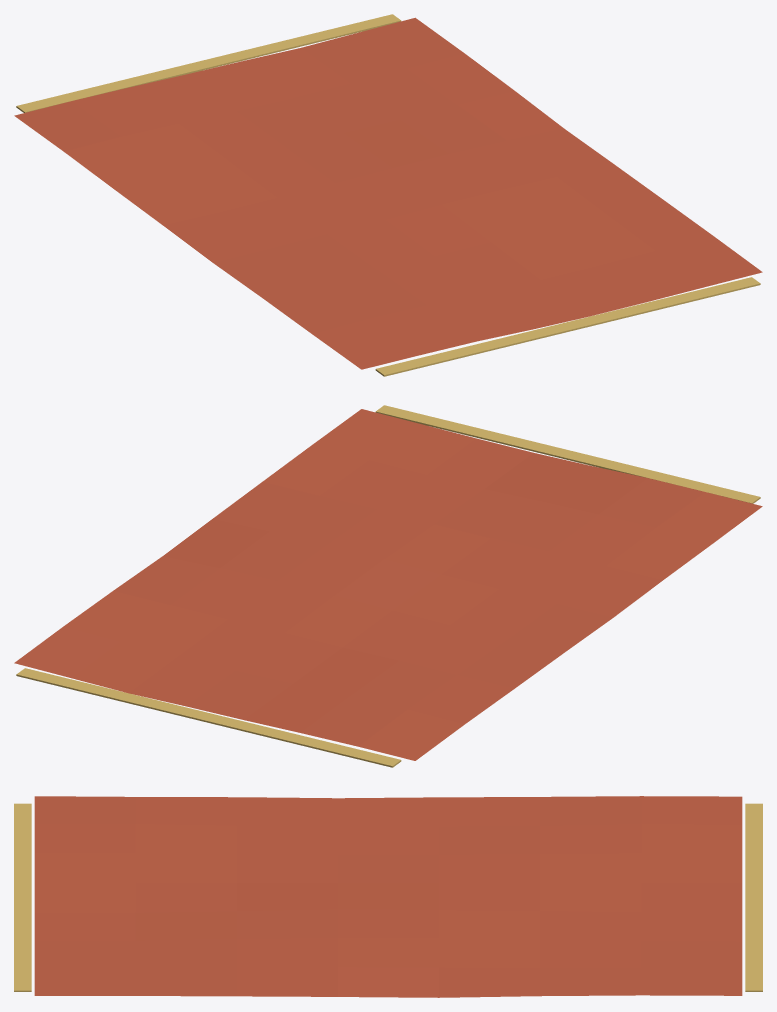
File: bazaar_rug.glb
3 renders of one model, top to bottom at view 1: azimuth 30°, elevation 25°; view 2: azimuth 150°, elevation 25°; view 3: azimuth 270°, elevation 25°, orthographic.
Parts seen in each view (by area): view 1: Rug_Body, Rug_Fringe_S, Rug_Fringe_N; view 2: Rug_Body, Rug_Fringe_N, Rug_Fringe_S; view 3: Rug_Body, Rug_Fringe_N, Rug_Fringe_S.
Part boxes in pixels (bbox=[...]): Rug_Body: bbox=[14, 17, 762, 369]; Rug_Fringe_S: bbox=[375, 277, 760, 376]; Rug_Fringe_N: bbox=[16, 14, 401, 112]; Rug_Body: bbox=[14, 409, 762, 760]; Rug_Fringe_N: bbox=[16, 668, 401, 767]; Rug_Fringe_S: bbox=[375, 405, 760, 503]; Rug_Body: bbox=[34, 796, 742, 997]; Rug_Fringe_N: bbox=[745, 803, 762, 991]; Rug_Fringe_S: bbox=[14, 803, 31, 991].
Bounding box in the file's own units: 0.8 × 0.00695 × 1.27.
